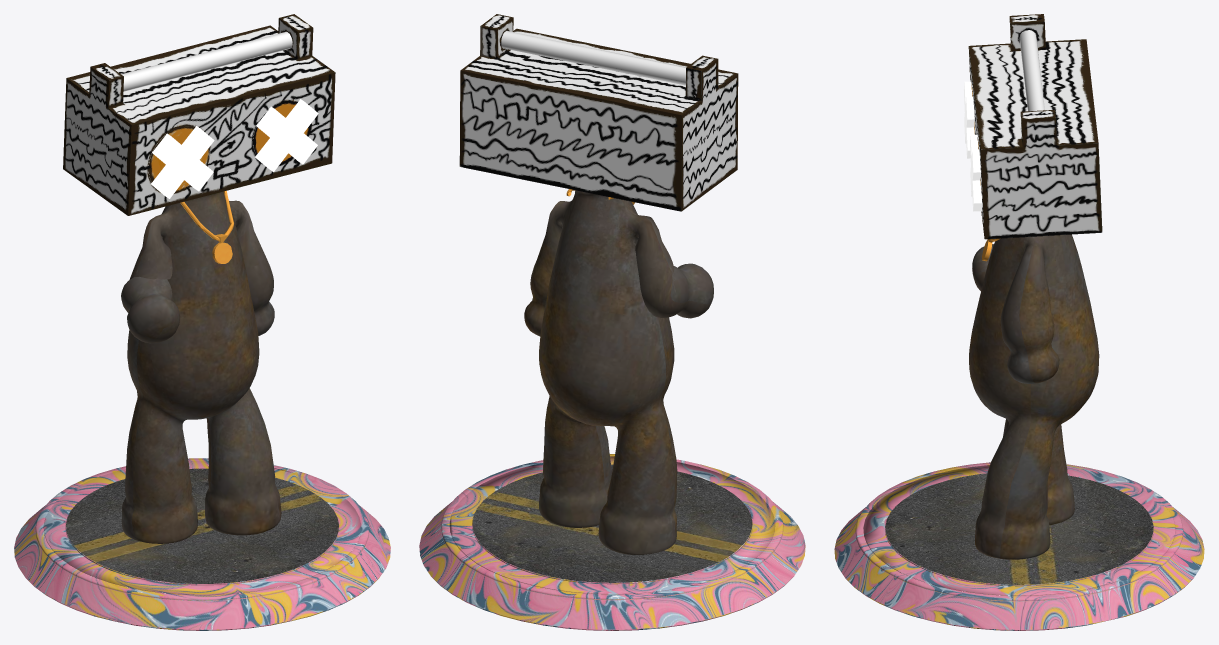
3 views of the same model, side by side, from view 1: azimuth 30°, elevation 25°; view 2: azimuth 150°, elevation 25°; view 3: azimuth 270°, elevation 25° (orthographic). The views are drawn at different scales.
Parts seen in each view (by area): view 1: BBody; view 2: BBody; view 3: BBody.
Part boxes in pixels (left/top/right/bottom): BBody: left=14, top=14, right=390, bottom=630; BBody: left=419, top=14, right=805, bottom=630; BBody: left=834, top=14, right=1204, bottom=630.
Size of the model in its own units: 1.45 by 2.12 by 1.45.
Materials: 6 (5 with a texture image).
